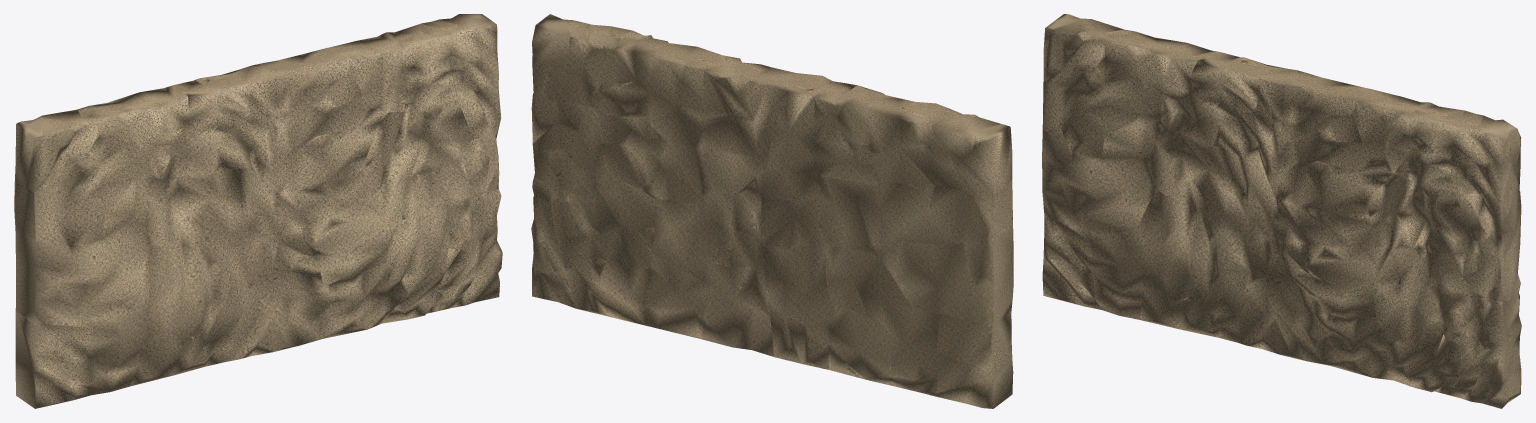
Rendered from sand.glb.
3 views of the same model, side by side, from view 1: azimuth 30°, elevation 25°; view 2: azimuth 150°, elevation 25°; view 3: azimuth 330°, elevation 25° (orthographic).
Visible parts, largest first — view 1: mesh_node; view 2: mesh_node; view 3: mesh_node.
Boxes of the visible parts, left/top/right/bottom form: mesh_node: left=14, top=14, right=502, bottom=408; mesh_node: left=531, top=14, right=1013, bottom=408; mesh_node: left=1042, top=14, right=1521, bottom=408.
Size of the model in its own units: 1.89 by 1.08 by 0.2193.
Materials: 1 (1 with a texture image).
